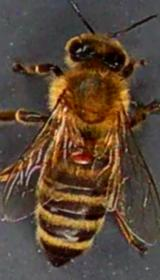varroa_mite: (65, 138, 95, 172)
